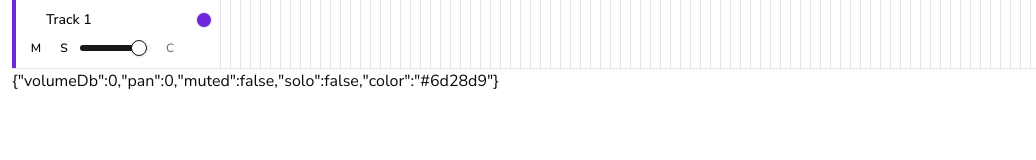
Test case: TrackLane control strip › Escape cancels the edit without renaming
Click the button with aria-label "Edit track name" at (118, 20), box [46, 10, 190, 30]
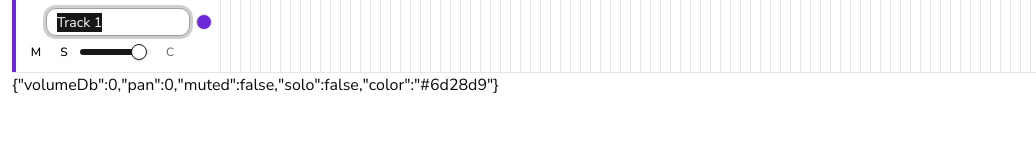
Replace the text in the field named "Track name" with "Drums" at (118, 22), box [46, 8, 190, 36]
Then press Escape
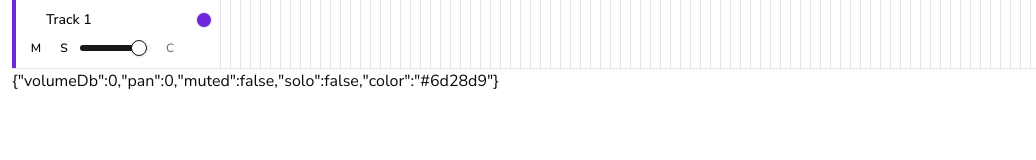
Expected: the button "Track 1" is shown, [46, 10, 190, 30]
